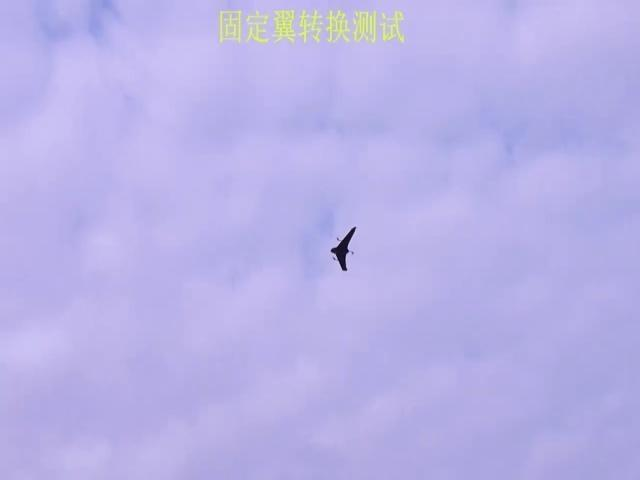Airplane: (331, 227, 358, 270)
